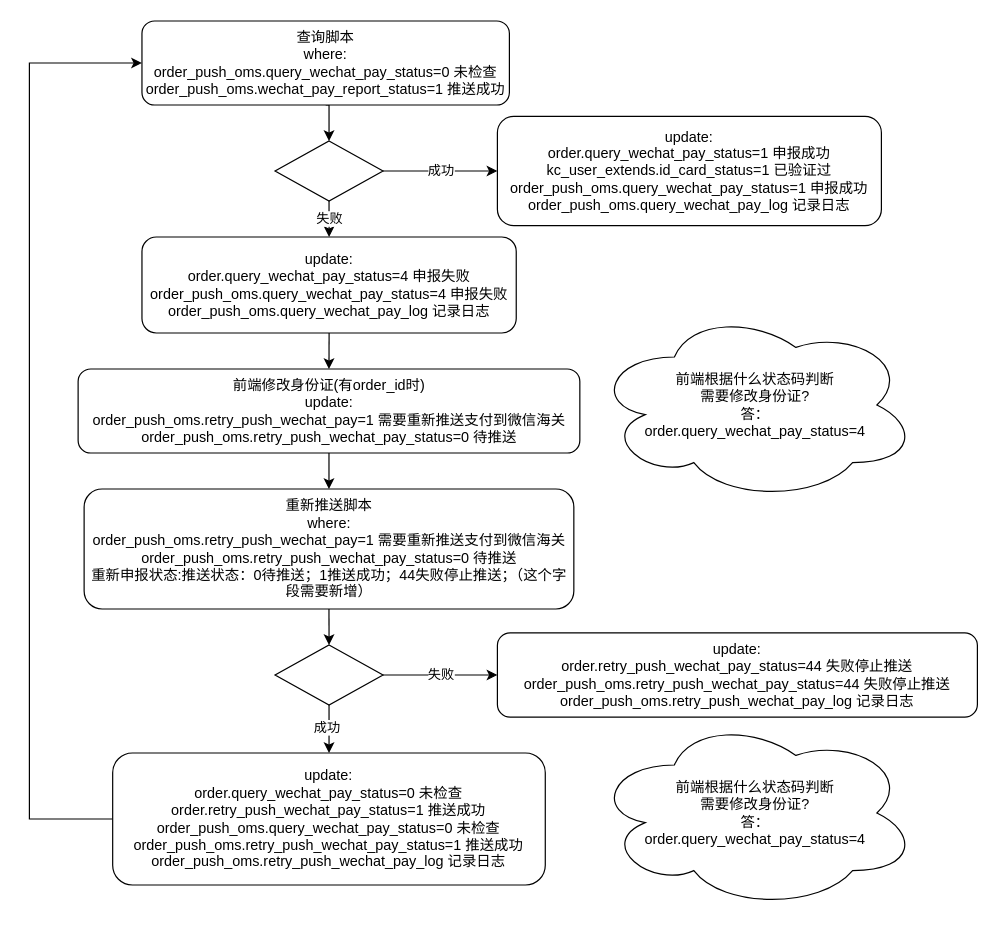
This 998x930 diagram has some shape labels left out. The shapes that lost their labels are listed below. From the top down, each one's centre as x and y in pixels, then its label:
point (328, 170): 查询结果
point (328, 674): 重推结果
